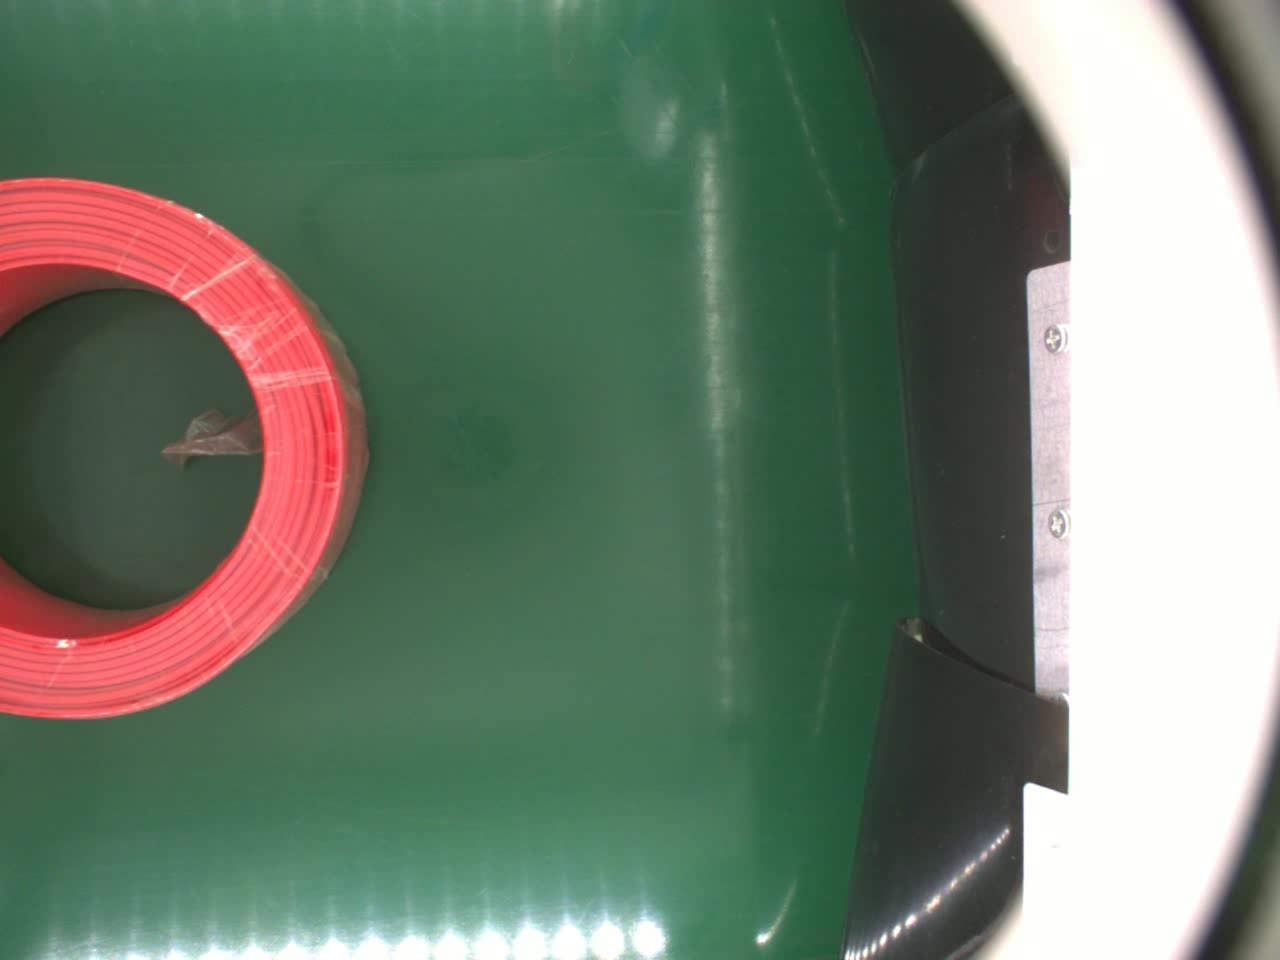red: (0, 175, 374, 720)
